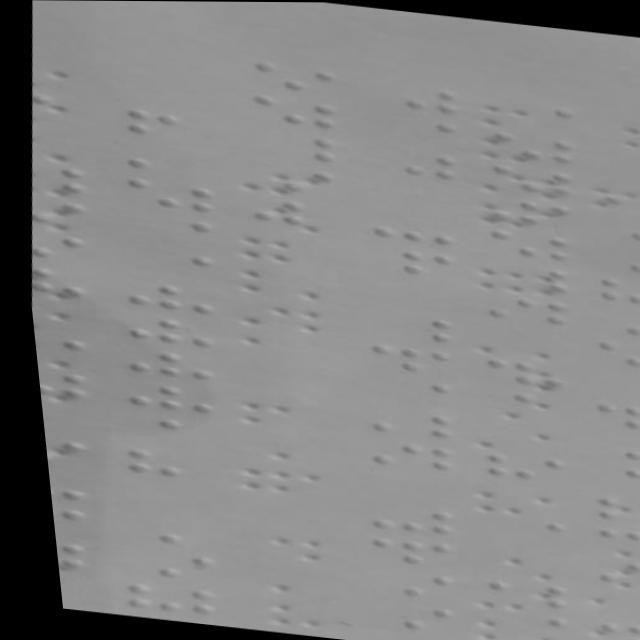braiile: (236, 55, 347, 97), (234, 156, 345, 198), (237, 90, 347, 132), (110, 375, 218, 416), (361, 75, 468, 116), (104, 577, 209, 618), (116, 343, 221, 383), (339, 594, 445, 633), (112, 278, 218, 317), (341, 564, 446, 603), (346, 529, 447, 569), (112, 244, 213, 284), (358, 143, 461, 182), (239, 126, 342, 165), (107, 544, 211, 582), (115, 174, 216, 213), (115, 211, 216, 250), (482, 97, 582, 135), (114, 313, 219, 349), (354, 339, 456, 376), (358, 242, 458, 279), (469, 573, 566, 611), (466, 353, 566, 389), (354, 309, 454, 345), (477, 225, 571, 263), (481, 161, 571, 199), (356, 370, 450, 406), (472, 513, 566, 548), (366, 112, 459, 147), (475, 259, 570, 293), (467, 606, 560, 640), (479, 129, 574, 162), (24, 195, 95, 231), (22, 262, 92, 298), (23, 228, 88, 264), (574, 428, 640, 463), (580, 333, 640, 371), (578, 397, 640, 433), (25, 161, 90, 195), (578, 522, 640, 557), (27, 334, 87, 369), (582, 239, 640, 275), (35, 430, 88, 469), (576, 462, 640, 494), (580, 491, 640, 525), (584, 272, 640, 307), (30, 364, 85, 399), (41, 501, 87, 537), (44, 535, 83, 570)
